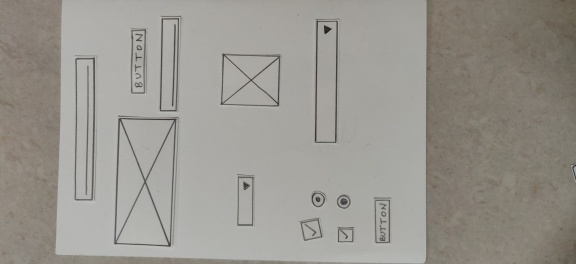button: (126, 24, 150, 97), (370, 194, 396, 249)
checkbox: (296, 215, 326, 245), (333, 224, 357, 246)
dropdown: (310, 17, 341, 146), (233, 173, 256, 229)
img: (111, 115, 178, 252), (216, 50, 285, 110)
radio: (333, 190, 354, 213), (307, 189, 328, 209)
text: (69, 53, 99, 206), (157, 13, 183, 114)
